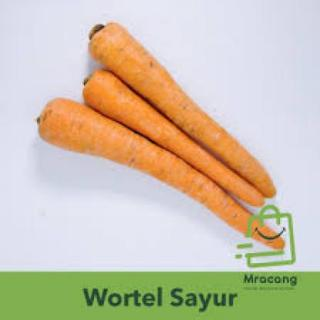Wortel: (34, 95, 288, 253), (86, 21, 281, 203), (83, 69, 266, 208)
